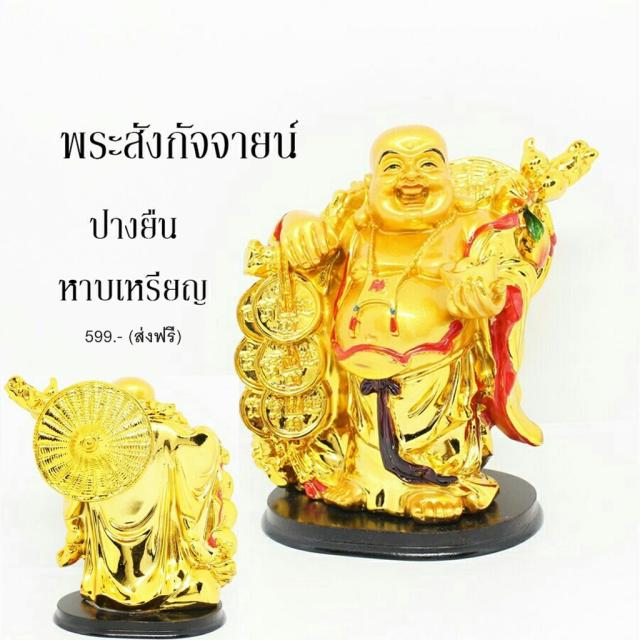Smiling Buddha: (299, 119, 496, 408)
